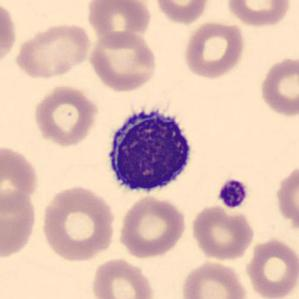Lymphocyte: (100, 102, 200, 200)
Platelets: (216, 178, 249, 209)
RBC: (39, 183, 117, 263), (116, 194, 189, 260), (12, 21, 94, 79), (86, 29, 160, 92), (32, 83, 100, 148), (181, 19, 247, 81), (188, 203, 256, 262), (243, 235, 298, 299), (84, 0, 153, 44), (0, 142, 41, 214), (178, 258, 249, 299), (89, 256, 156, 299), (0, 187, 39, 260), (257, 54, 298, 119), (225, 0, 293, 28), (277, 165, 299, 233), (152, 0, 211, 25), (0, 0, 18, 71)
